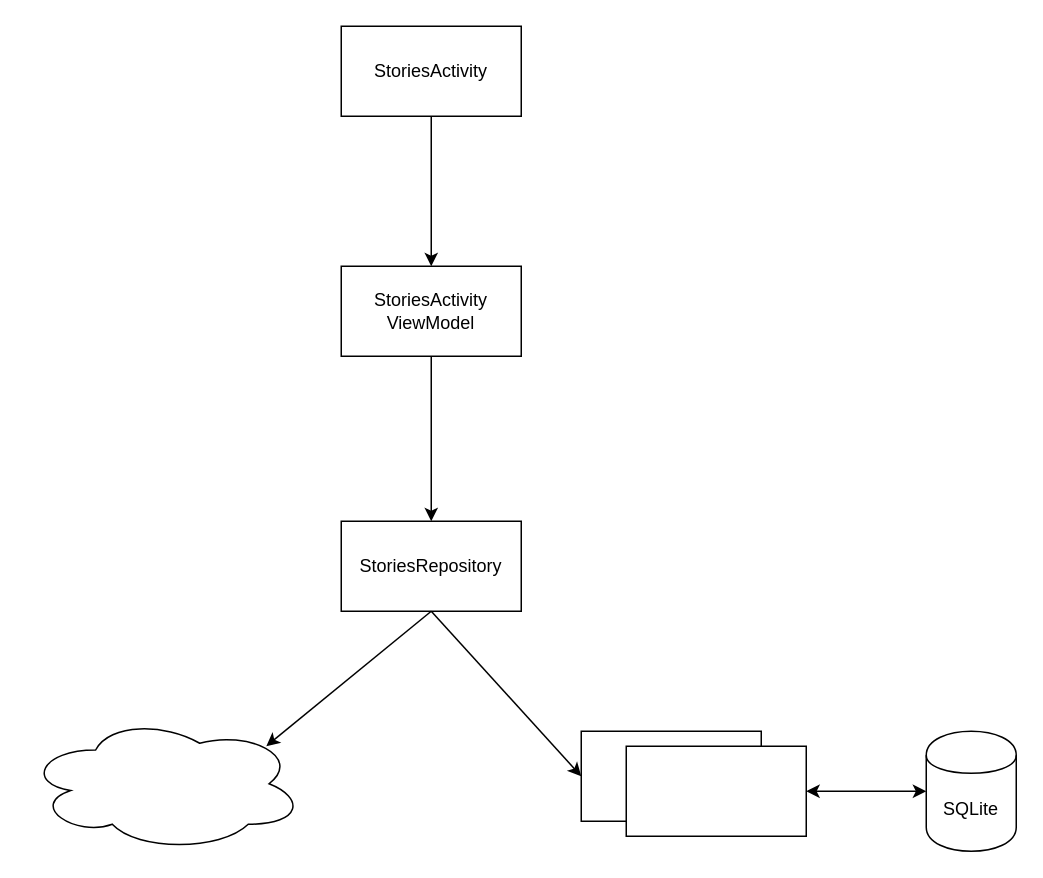
Some shapes in this 1043 by 878 pixel diagram are drawn without their labels. Each missing label, with the centre of its shape:
Room DAOs: pixel 715 790
Wattpad API: pixel 164 783
